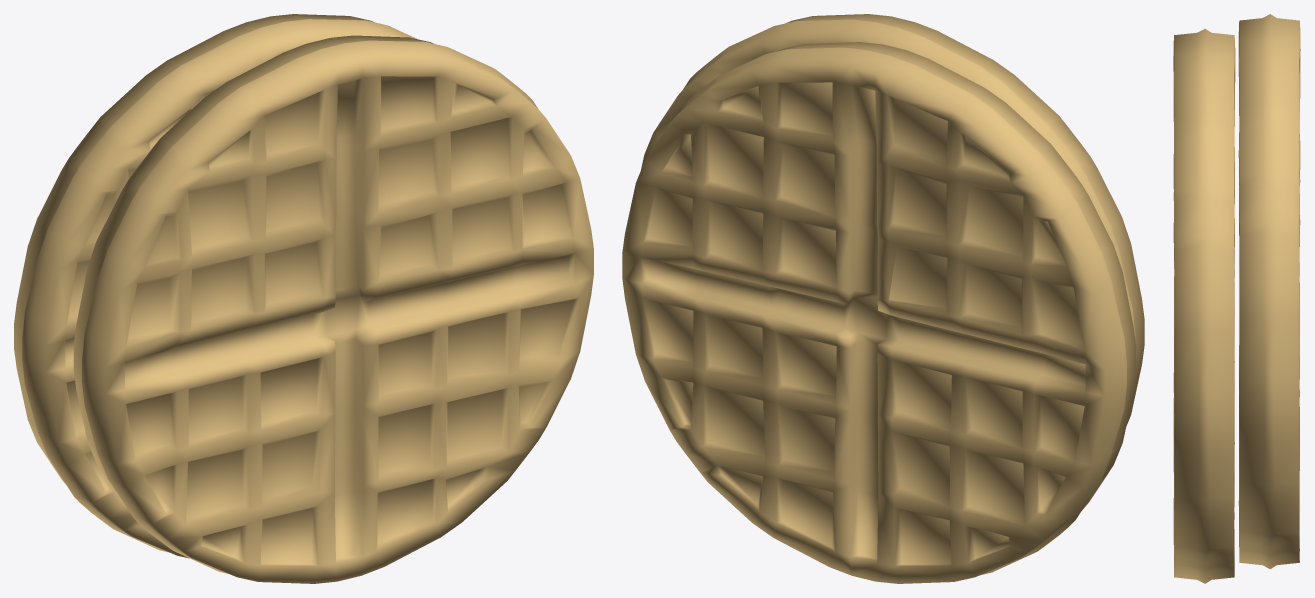
3 renders of one model, left to right at view 1: azimuth 30°, elevation 25°; view 2: azimuth 150°, elevation 25°; view 3: azimuth 270°, elevation 25°, orthographic. The views are drawn at different scales.
Size of the model in its own units: 1 by 0.9578 by 0.2178.
